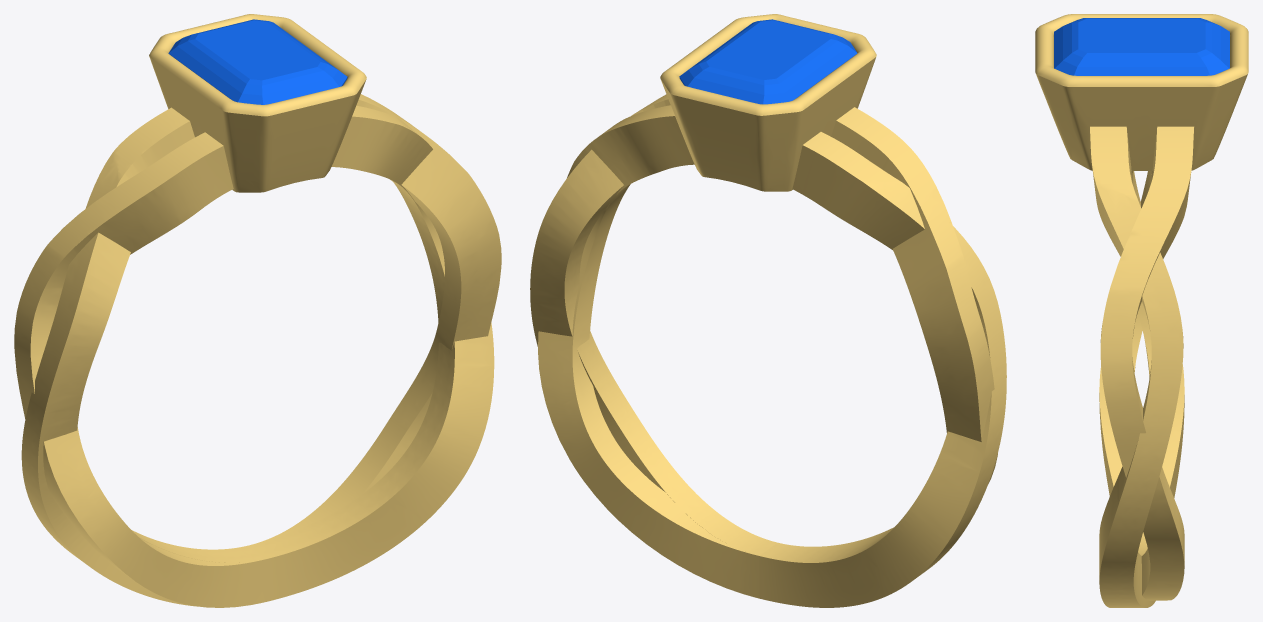
File: bluesapphire-emerald-yellowgold-bezelset-twist-nosidestones.glb
3 renders of one model, left to right at view 1: azimuth 30°, elevation 25°; view 2: azimuth 150°, elevation 25°; view 3: azimuth 270°, elevation 25°, orthographic.
Visible parts, largest first — view 1: metal.002, stone; view 2: metal.002, stone; view 3: metal.002, stone.
Part boxes in pixels (x1=…): metal.002: x1=14, y1=14, x2=501, y2=607; stone: x1=168, y1=19, x2=347, y2=104; metal.002: x1=530, y1=14, x2=1006, y2=607; stone: x1=679, y1=19, x2=857, y2=104; metal.002: x1=1035, y1=14, x2=1248, y2=607; stone: x1=1054, y1=18, x2=1229, y2=75.
Bounding box in the file's own units: 19.97 × 22.85 × 8.11.
